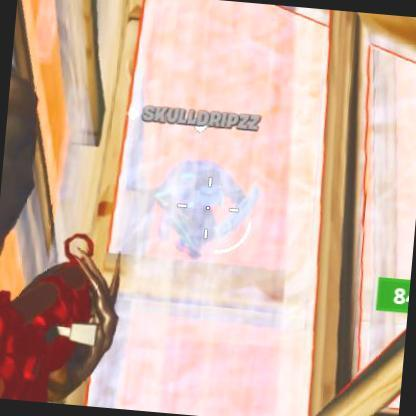person: (149, 148, 241, 252)
